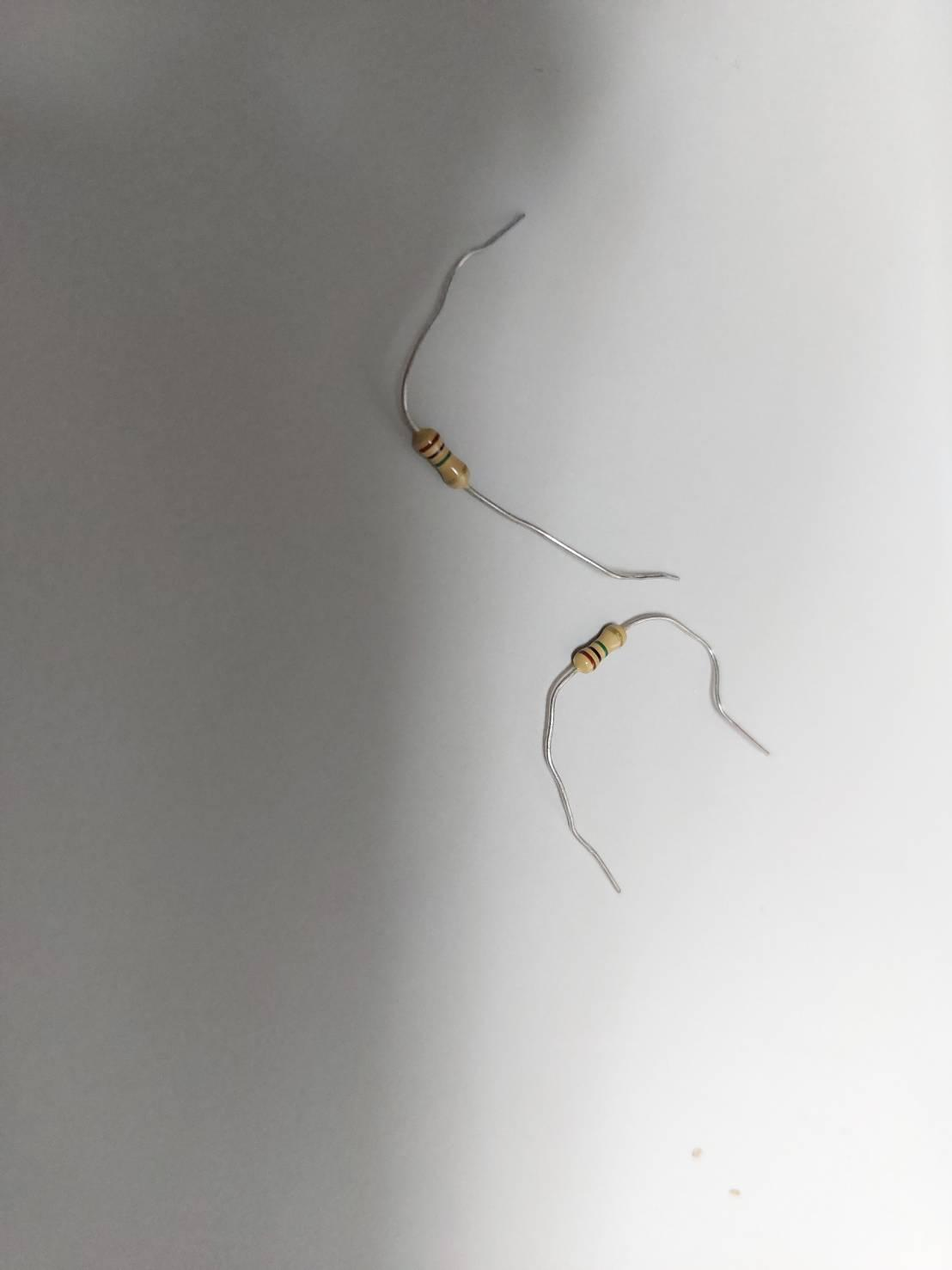resistor: (413, 426, 473, 489), (571, 620, 626, 677)
